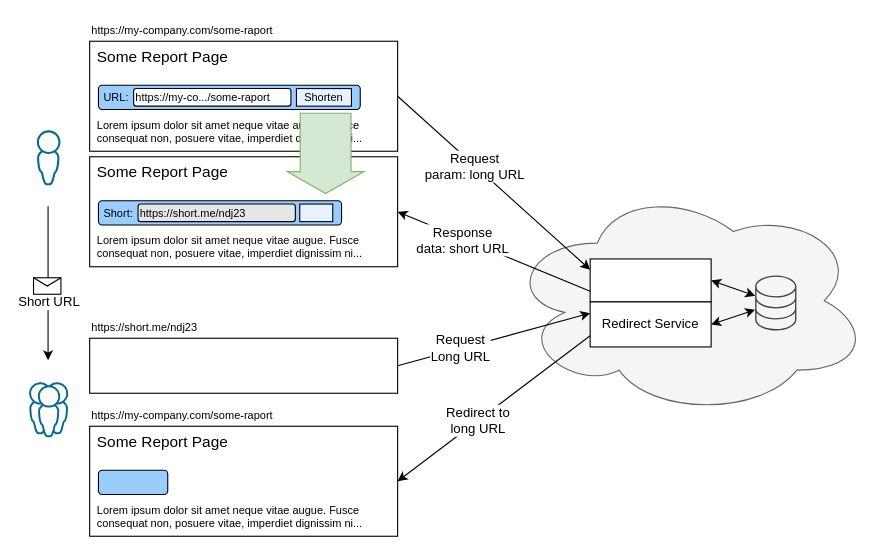
Some shapes in this 890 by 556 pixel diagram are drawn without their labels. Each missing label, with the centre of its shape:
"API" belongs at point (650, 280).
"Copy" belongs at point (316, 212).
"Create new" belongs at point (132, 481).
"Empty Page" belongs at point (243, 365).
